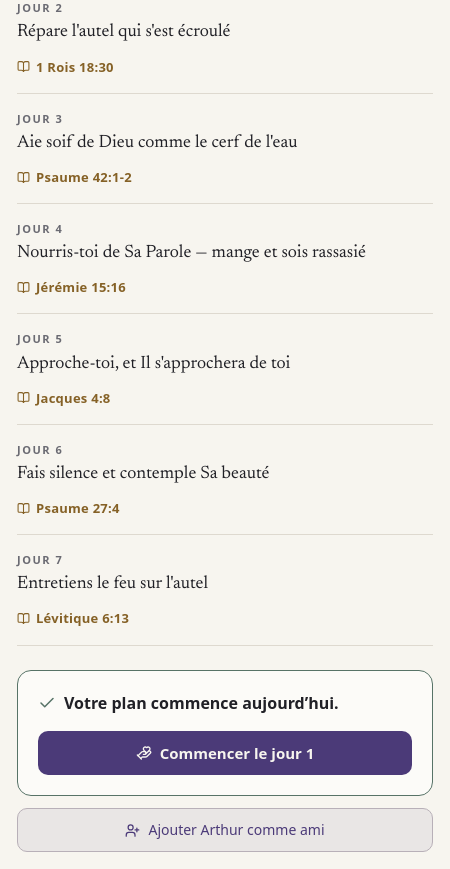
it: PlanJoinPage › starts the plan chosen before sign-up, counts the join and offers the friend request
The image size is (450, 869).
(page scrolled)
Expected: the text "Votre plan commence aujourd’hui." is shown, x1=38 y1=692 x2=339 y2=714
Click the button "Ajouter Arthur comme ami": (225, 830) x1=17 y1=808 x2=433 y2=852
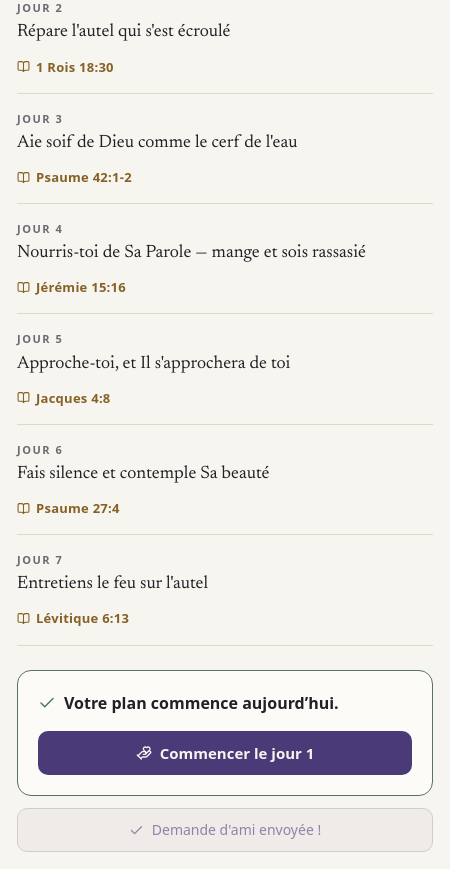
Result: the button "Demande d'ami envoyée !" is shown at x1=17 y1=808 x2=433 y2=852
